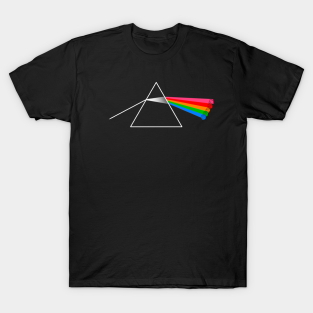design: (107, 78, 216, 129)
